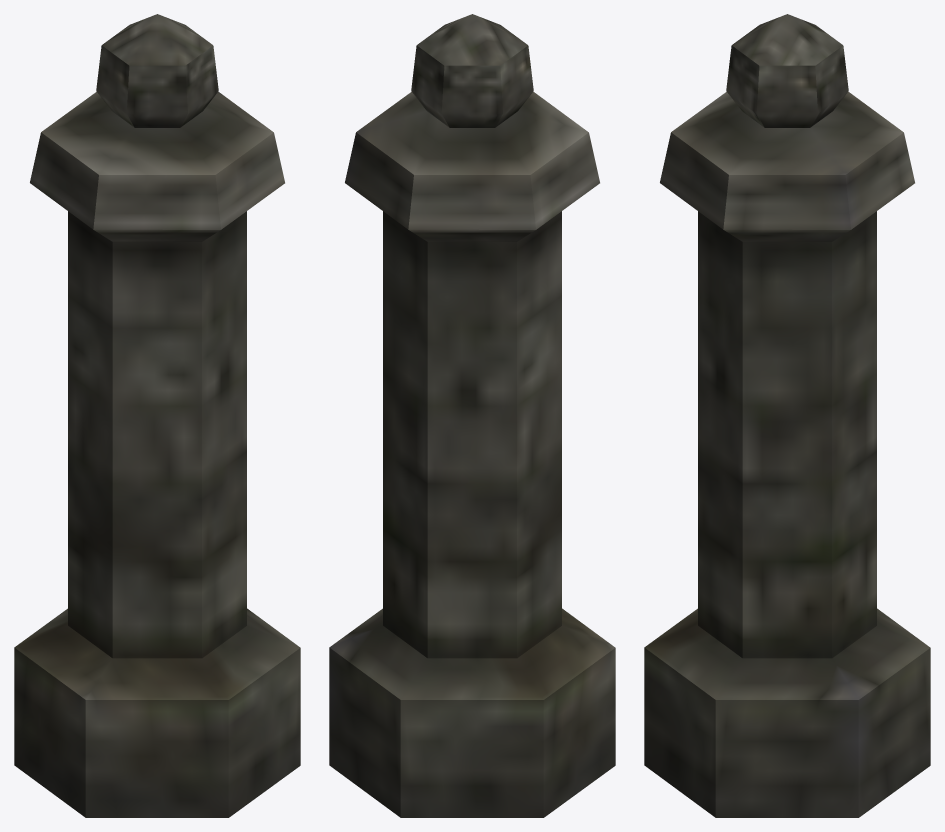
Rendered from SM_EN_2005_langan02.FBX.
3 views of the same model, side by side, from view 1: azimuth 30°, elevation 25°; view 2: azimuth 150°, elevation 25°; view 3: azimuth 270°, elevation 25° (orthographic).
Parts seen in each view (by area): view 1: SM_EN_2005_langan02; view 2: SM_EN_2005_langan02; view 3: SM_EN_2005_langan02.
Boxes of the visible parts, x1,y1,x2,y2 form: SM_EN_2005_langan02: (14, 14, 300, 817); SM_EN_2005_langan02: (329, 14, 615, 817); SM_EN_2005_langan02: (644, 14, 930, 817).
Size of the model in its own units: 4.43 by 14.8 by 5.11.
